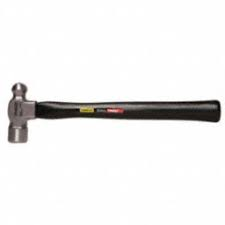hammer: (6, 82, 221, 144)
